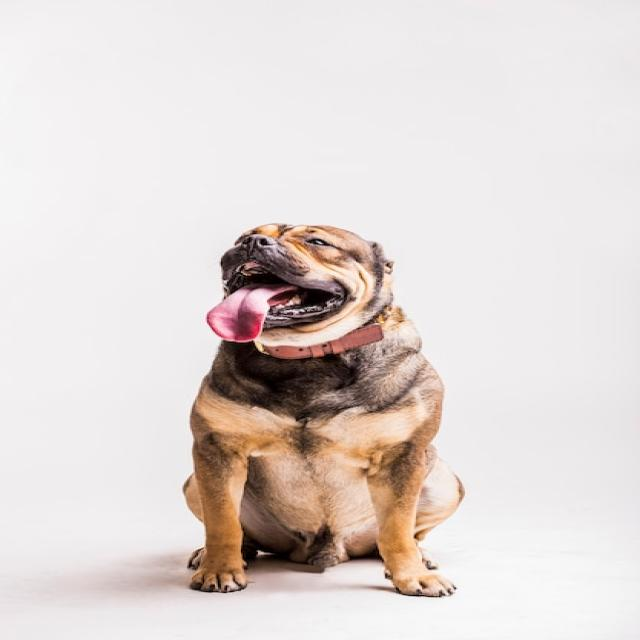Dog: (180, 224, 462, 596)
